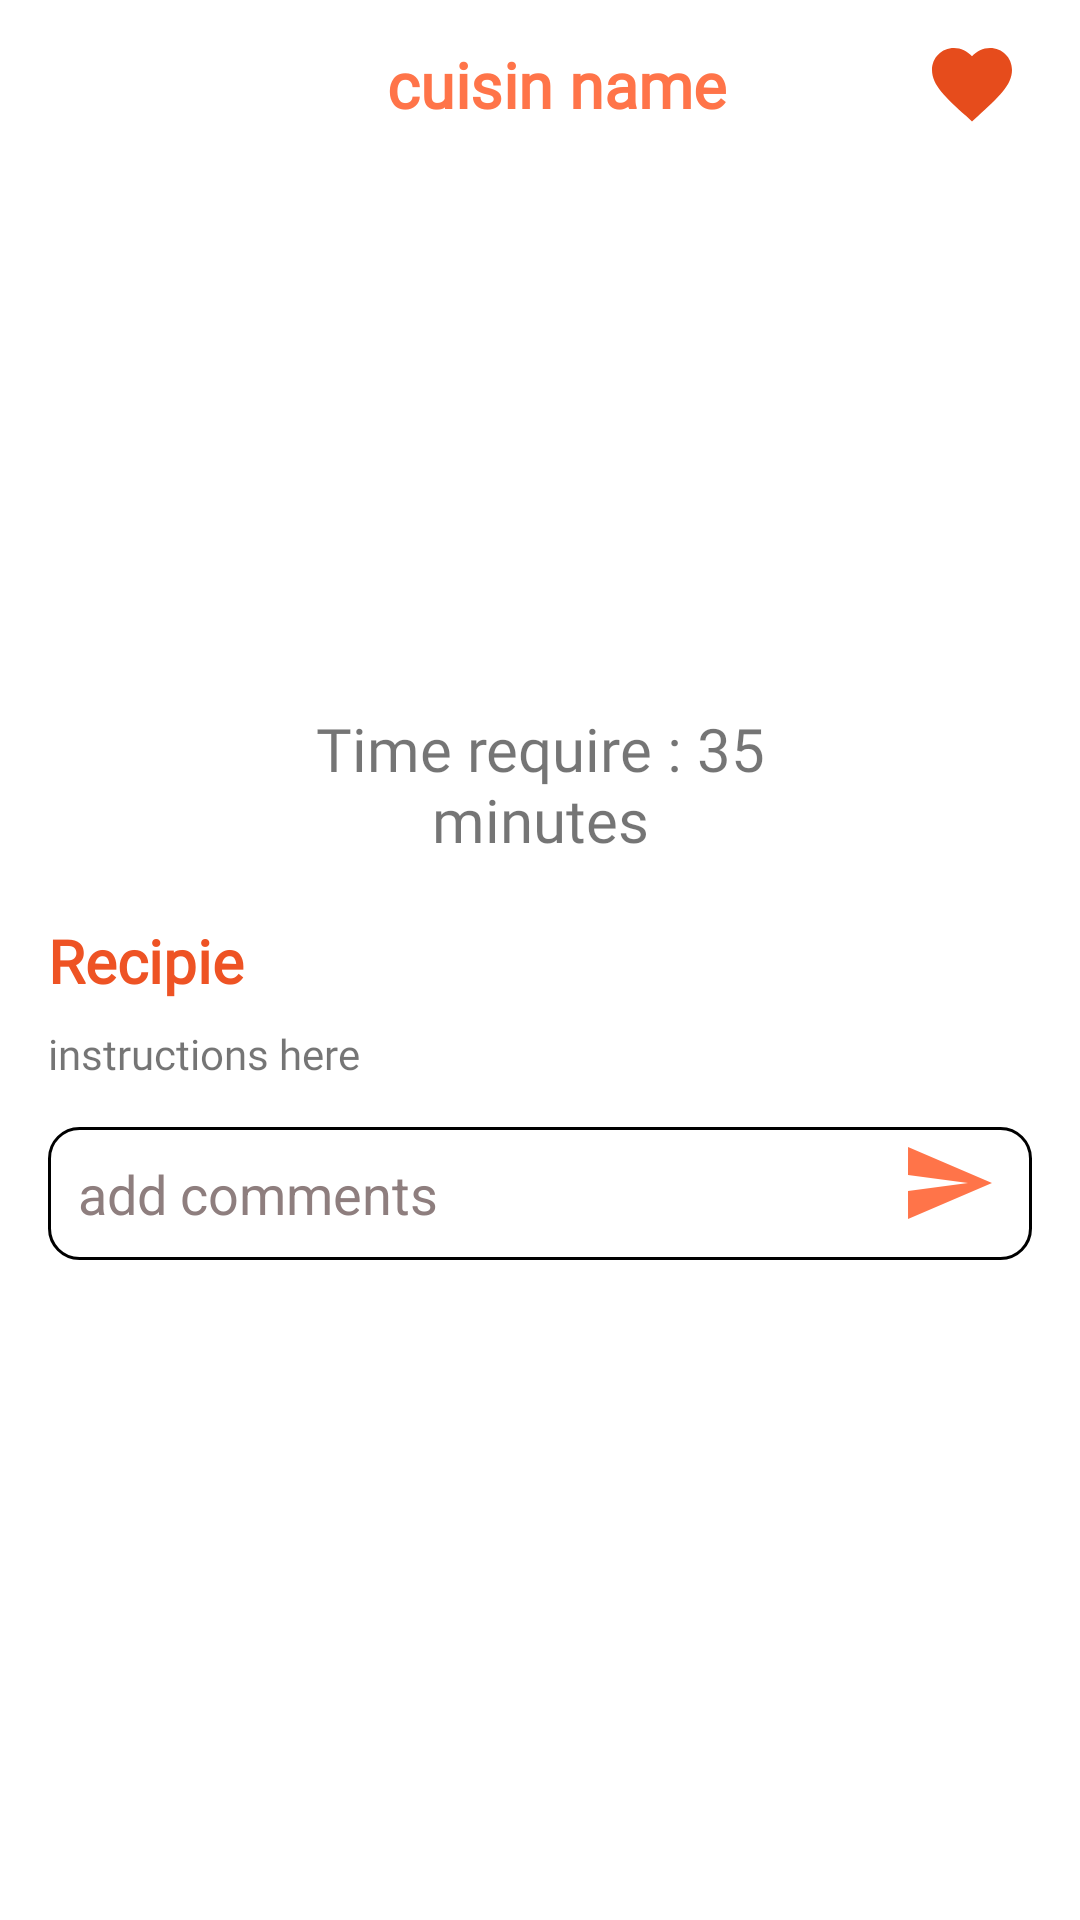

Icon bounding boxes for this 1080w x 1920h phone screenshot, format (x1=x1, y1=y1, x2=x2, y2=y2):
favorite: (x1=932, y1=48, x2=1012, y2=122)
send: (x1=908, y1=1147, x2=992, y2=1219)
